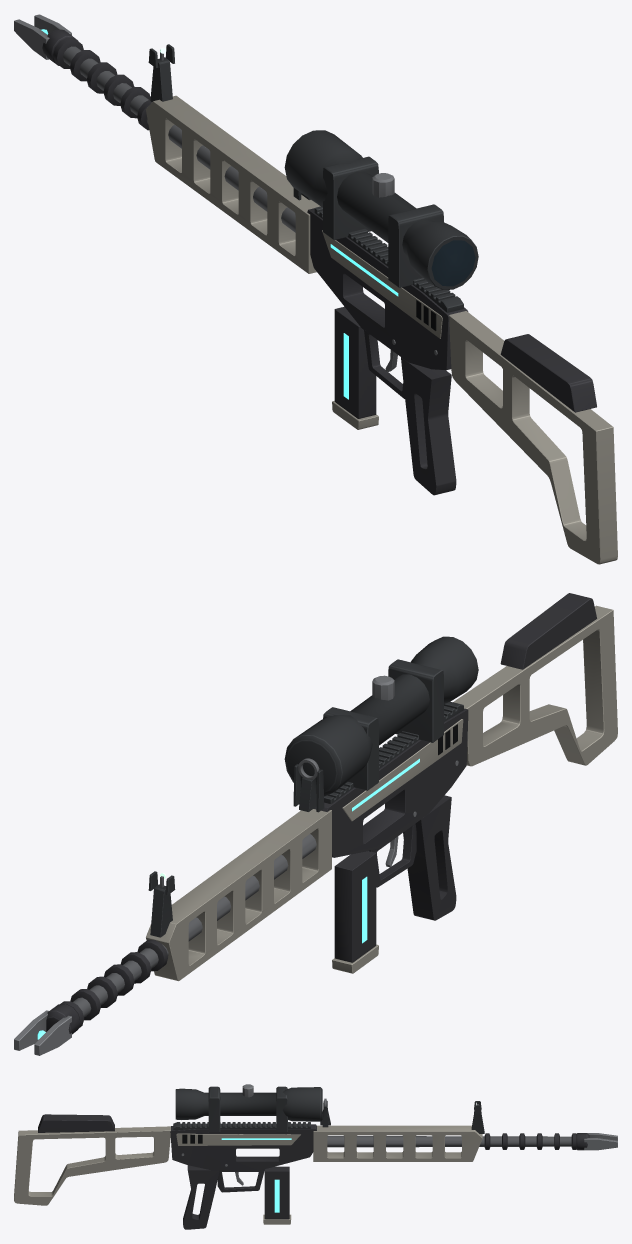
The model's file is e_rifle.glb.
The picture shows the model from 3 angles, top to bottom: view 1: azimuth 30°, elevation 25°; view 2: azimuth 150°, elevation 25°; view 3: azimuth 270°, elevation 25°; orthographic projection. The views are drawn at different scales.
Parts seen in each view (by area): view 1: Body, ThirdPersonOnly, IronSight, Cell; view 2: Body, IronSight, ThirdPersonOnly, Cell; view 3: Body, ThirdPersonOnly, IronSight, Cell.
Part boxes in pixels (x1,y1,x2,y2): Body: (14, 14, 468, 495); ThirdPersonOnly: (449, 311, 617, 564); IronSight: (148, 44, 478, 289); Cell: (332, 306, 378, 429); Body: (14, 701, 468, 1055); IronSight: (148, 636, 478, 937); ThirdPersonOnly: (453, 593, 617, 766); Cell: (332, 851, 378, 973); Body: (170, 1122, 617, 1229); ThirdPersonOnly: (14, 1114, 170, 1205); IronSight: (175, 1084, 484, 1133); Cell: (263, 1166, 291, 1224).
Bounding box in the file's own units: 0.072 × 0.3224 × 1.25.
